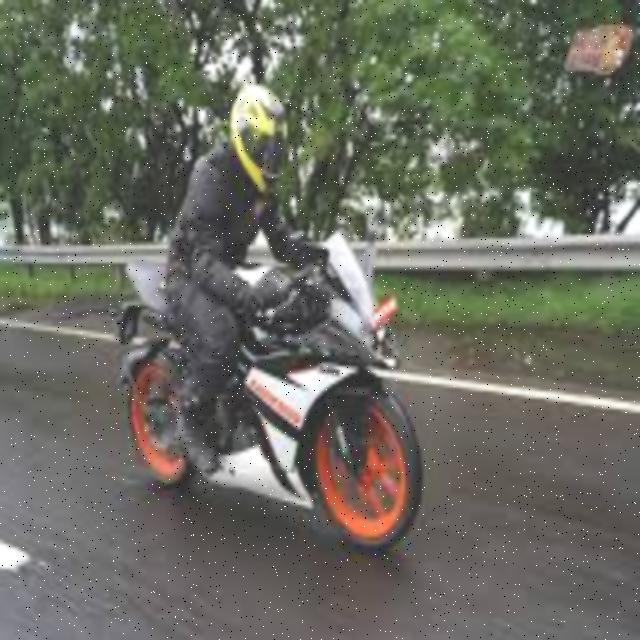not_triplets: (117, 81, 420, 539)
with-helmet: (227, 81, 294, 202)
